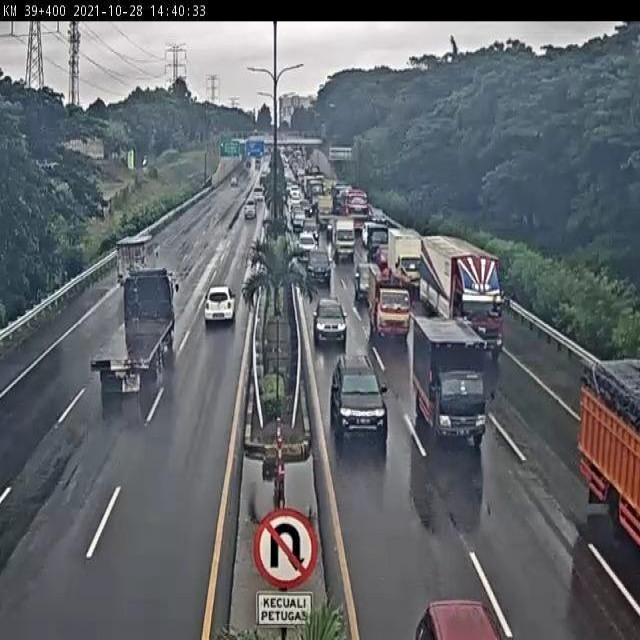big truck: (73, 280, 171, 415)
car: (331, 355, 387, 436), (312, 296, 348, 345), (196, 300, 233, 339), (354, 262, 386, 298), (306, 247, 334, 288)
small truck: (105, 238, 151, 290)
truck-l-: (418, 237, 500, 347)
truck-m-: (413, 315, 488, 441), (367, 275, 411, 336), (385, 227, 425, 292)
